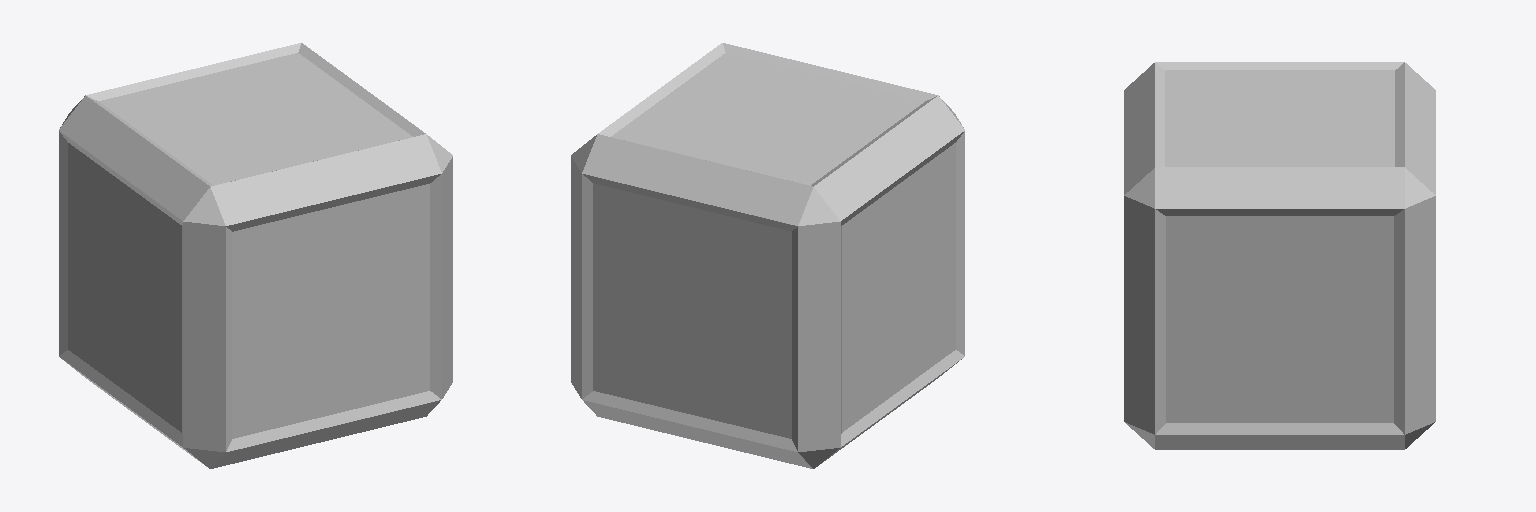
The model's file is Dice.obj.
3 views of the same model, side by side, from view 1: azimuth 30°, elevation 25°; view 2: azimuth 150°, elevation 25°; view 3: azimuth 270°, elevation 25° (orthographic).
Visible parts, largest first — view 1: pCube1; view 2: pCube1; view 3: pCube1.
Boxes of the visible parts, box(x1,y1,x2,y2) form: pCube1: box(59, 43, 452, 468); pCube1: box(571, 43, 964, 468); pCube1: box(1124, 62, 1435, 449).
Size of the model in its own units: 0.6045 by 0.6045 by 0.6045.